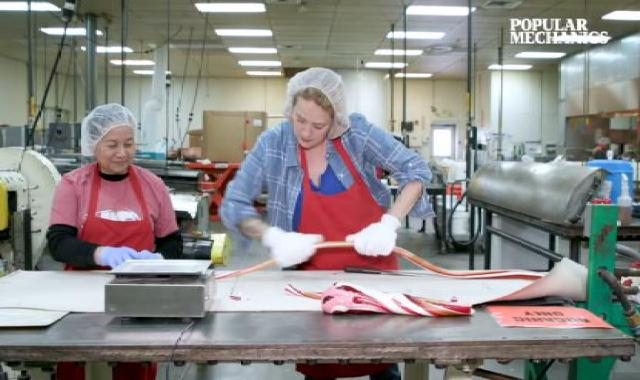hairnet: (281, 63, 356, 140), (76, 100, 146, 160)
